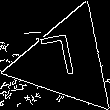L_S: (45, 33, 87, 89)
